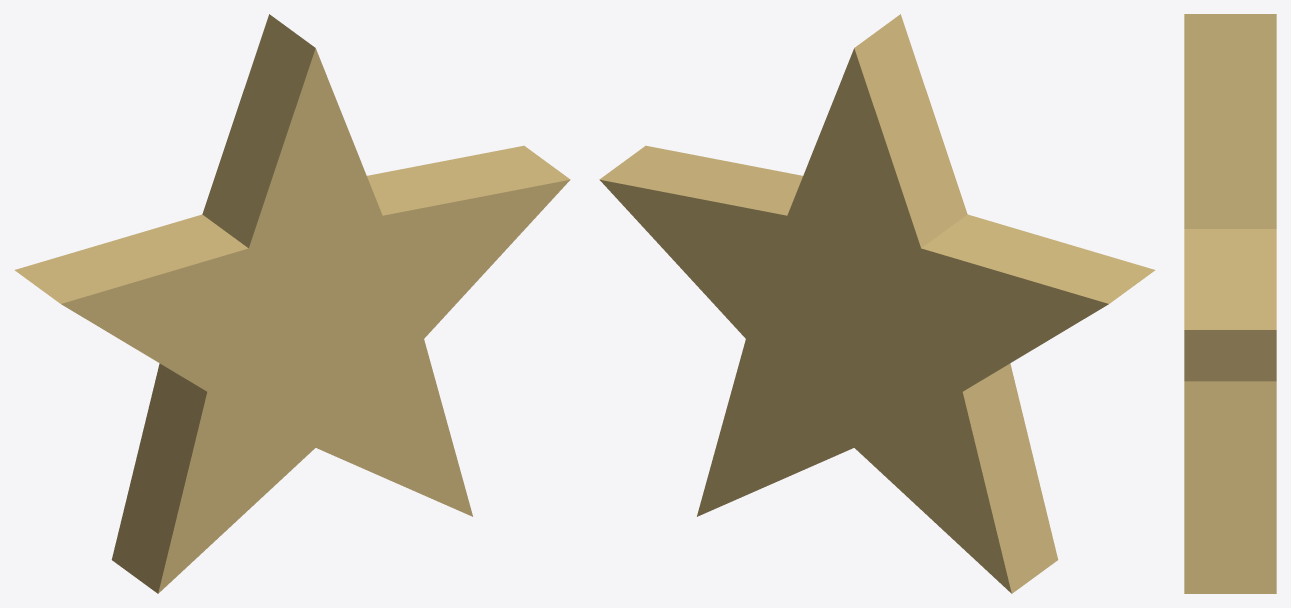
File: kr_star.glb
3 views of the same model, side by side, from view 1: azimuth 30°, elevation 25°; view 2: azimuth 150°, elevation 25°; view 3: azimuth 270°, elevation 25° (orthographic).
Parts seen in each view (by area): view 1: vc_m8_r2; view 2: vc_m8_r2; view 3: vc_m8_r2.
Boxes of the visible parts, left/top/right/bottom form: vc_m8_r2: left=14, top=14, right=570, bottom=593; vc_m8_r2: left=599, top=14, right=1155, bottom=593; vc_m8_r2: left=1184, top=14, right=1276, bottom=593.
Size of the model in its own units: 0.3804 by 0.3618 by 0.06.
